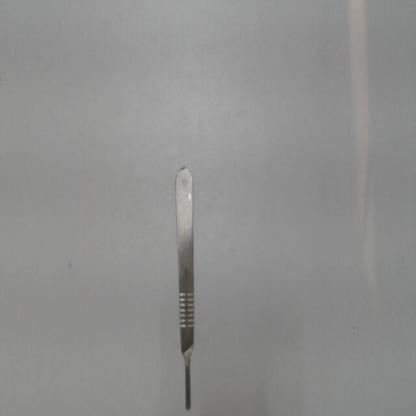No.4 BP Handle: (166, 155, 198, 411)
